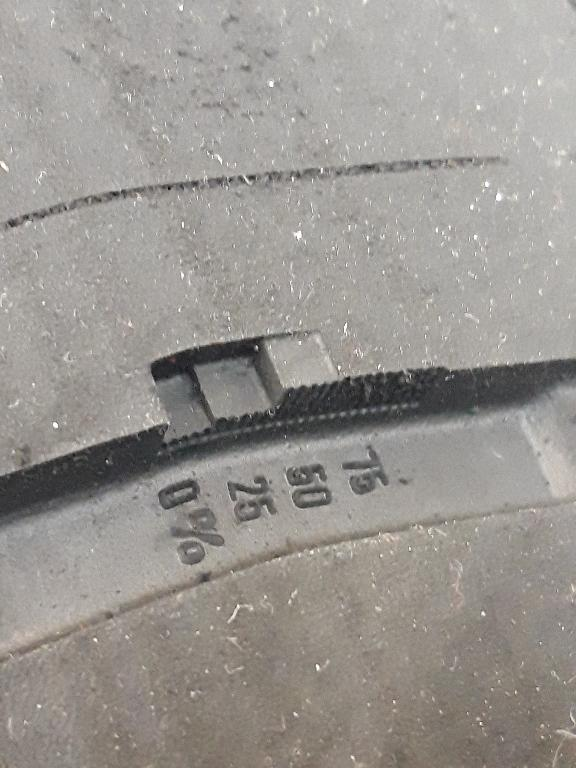temoin:50: (130, 311, 369, 484)
